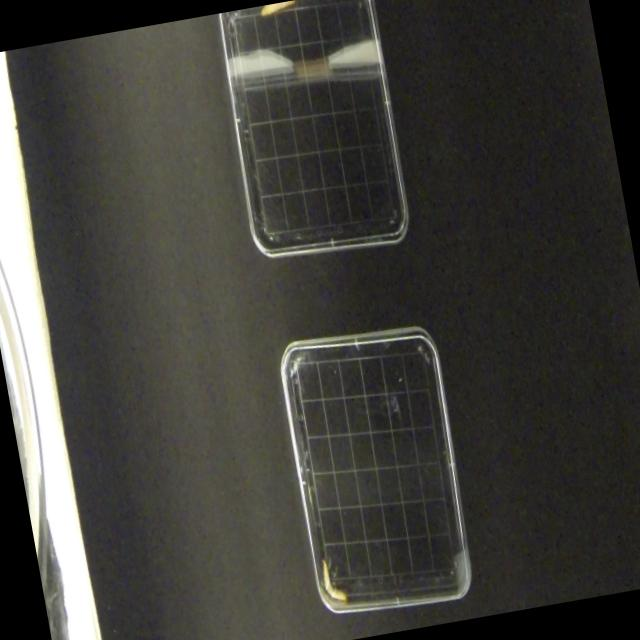larva: (321, 554, 350, 606), (259, 0, 297, 16)
